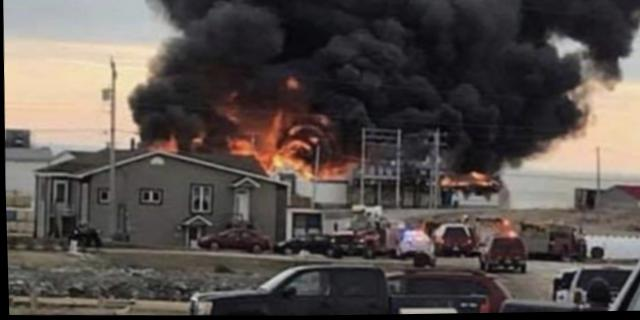fire: (267, 156, 309, 172), (147, 136, 176, 154), (470, 173, 492, 187), (437, 177, 455, 188), (285, 77, 297, 93)
smoke: (160, 28, 546, 81), (145, 0, 589, 37), (332, 80, 588, 135), (441, 133, 531, 168), (130, 77, 222, 110), (589, 0, 622, 90), (135, 109, 216, 134), (241, 78, 282, 110), (617, 0, 639, 58), (299, 78, 329, 109), (532, 134, 569, 159)
